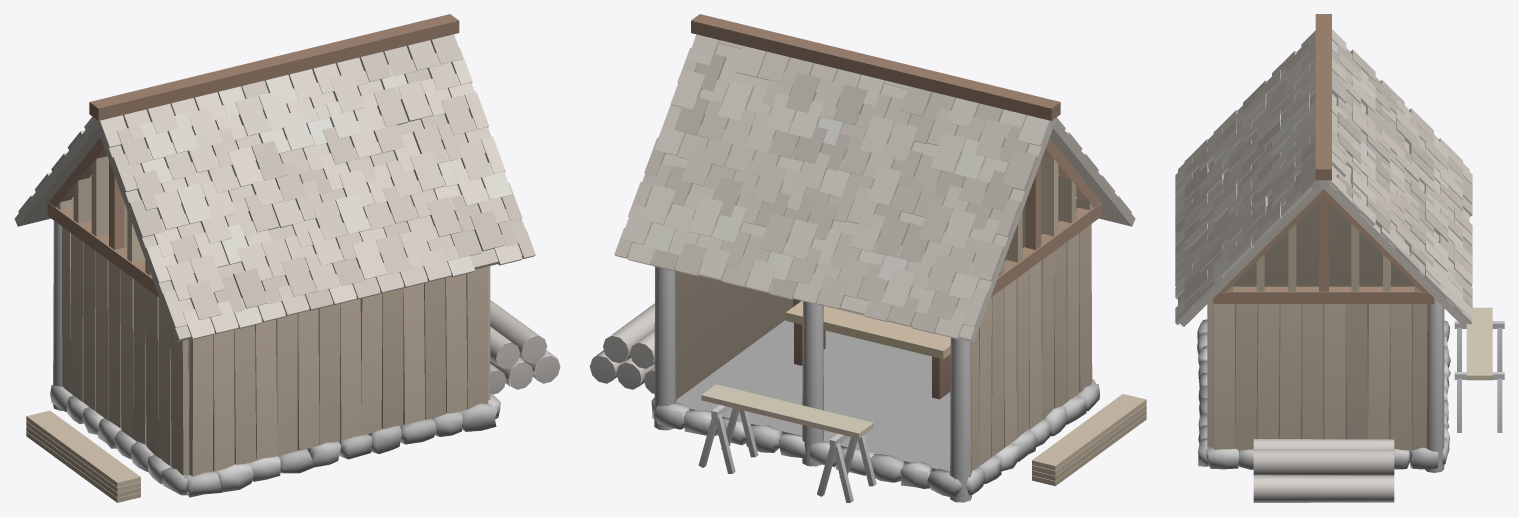
File: hw_medieval_carpenter.glb
The picture shows the model from 3 angles, left to right: view 1: azimuth 30°, elevation 25°; view 2: azimuth 150°, elevation 25°; view 3: azimuth 270°, elevation 25°; orthographic projection. The views are drawn at different scales.
Parts seen in each view (by area): view 1: Building; view 2: Building; view 3: Building.
Boxes of the visible parts, left/top/right/bottom form: Building: left=14, top=14, right=560, bottom=502; Building: left=589, top=14, right=1146, bottom=502; Building: left=1175, top=14, right=1504, bottom=502.
Size of the model in its own units: 4.67 by 3.44 by 3.28.
